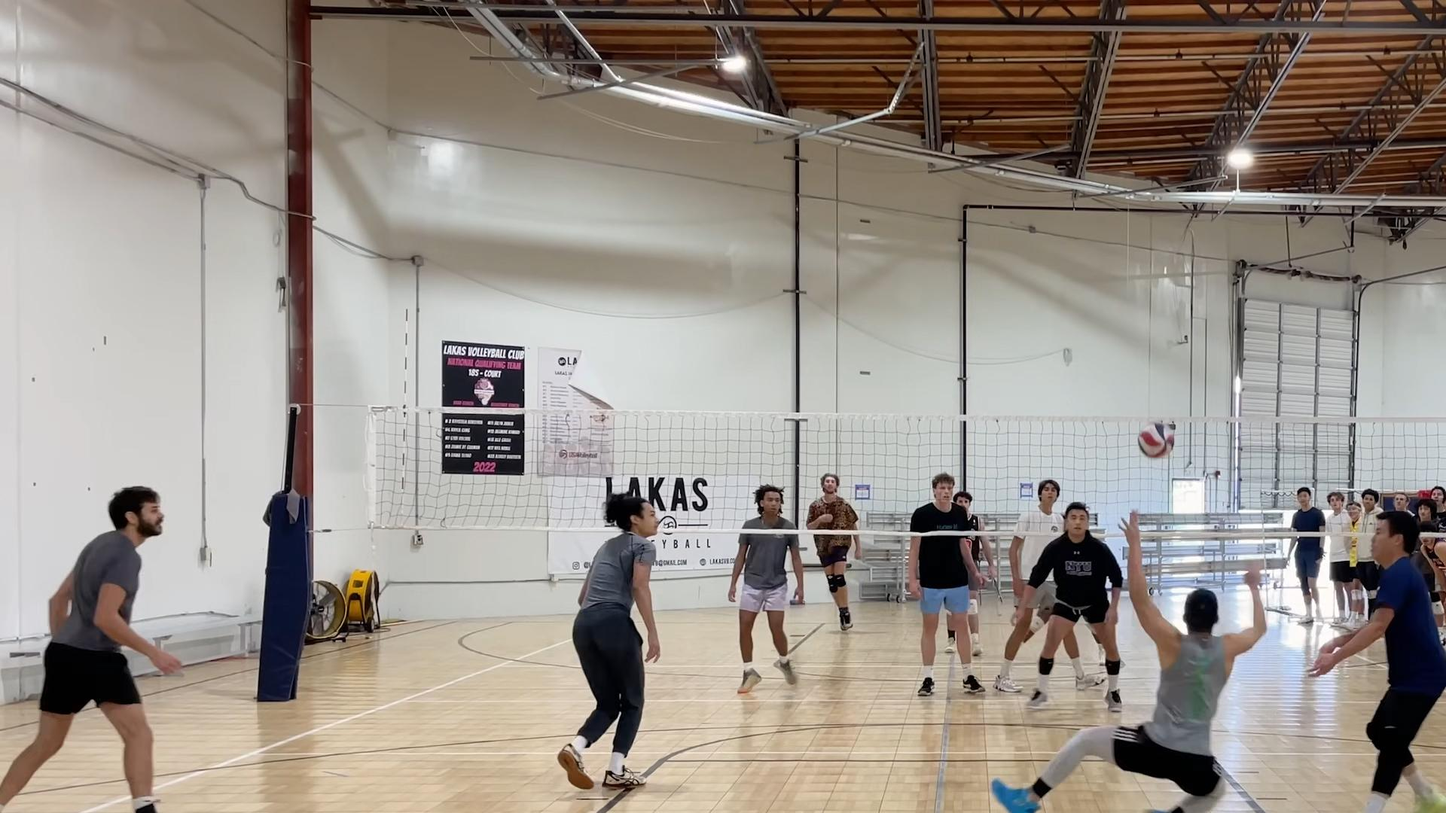Player: (0, 486, 180, 812), (1310, 513, 1445, 812), (557, 494, 659, 788), (1015, 503, 1122, 711), (728, 485, 803, 693), (993, 479, 1063, 693), (908, 473, 975, 696), (806, 473, 862, 630), (953, 491, 996, 656)
Receive: (988, 506, 1282, 812)
ball: (1136, 418, 1177, 458)
